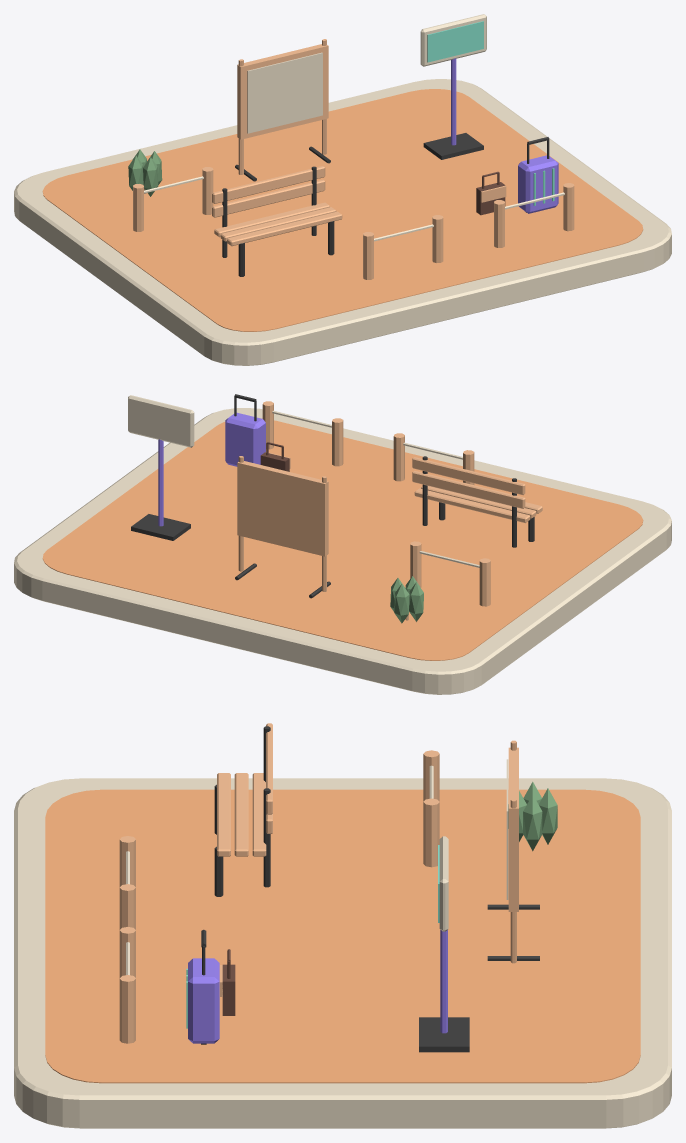
3 renders of one model, top to bottom at view 1: azimuth 30°, elevation 25°; view 2: azimuth 150°, elevation 25°; view 3: azimuth 270°, elevation 25°, orthographic. The views are drawn at different scales.
Visible parts, largest first — view 1: COM-02 Floor Surface, COM-01 Rounded Base Direct, Art surface, Frame, Shell, Inset, Back slat, Back slat.001, Seat slat, Sign panel, Foot.002, Bag (+8 smaller); view 2: COM-02 Floor Surface, COM-01 Rounded Base Direct, Frame, Sign panel, Shell, Back slat, Back slat.001, Seat slat.002, Foot.002, Seat slat.001, Boundary post.002, Boundary post.004 (+6 smaller); view 3: COM-02 Floor Surface, COM-01 Rounded Base Direct, Shell, Frame, Foot.002, Seat slat.001, Seat slat, Boundary post.003, Boundary post.005, Seat slat.002, Sign panel, Bag (+8 smaller).
Part boxes in pixels (x1=…): COM-02 Floor Surface: x1=42, y1=89, x2=643, y2=331; COM-01 Rounded Base Direct: x1=14, y1=79, x2=671, y2=365; Art surface: x1=247, y1=52, x2=322, y2=133; Frame: x1=237, y1=44, x2=328, y2=139; Shell: x1=518, y1=155, x2=558, y2=213; Inset: x1=427, y1=21, x2=483, y2=62; Back slat: x1=212, y1=179, x2=325, y2=217; Back slat.001: x1=212, y1=166, x2=325, y2=203; Seat slat: x1=227, y1=211, x2=342, y2=246; Sign panel: x1=420, y1=14, x2=486, y2=66; Foot.002: x1=423, y1=133, x2=483, y2=159; Bag: x1=476, y1=171, x2=506, y2=215; COM-02 Floor Surface: x1=42, y1=418, x2=643, y2=660; COM-01 Rounded Base Direct: x1=14, y1=408, x2=671, y2=694; Frame: x1=237, y1=461, x2=328, y2=556; Sign panel: x1=128, y1=395, x2=194, y2=447; Shell: x1=225, y1=412, x2=265, y2=466; Back slat: x1=412, y1=471, x2=525, y2=508; Back slat.001: x1=412, y1=457, x2=525, y2=494; Seat slat.002: x1=414, y1=488, x2=530, y2=522; Foot.002: x1=131, y1=514, x2=190, y2=540; Seat slat.001: x1=421, y1=486, x2=536, y2=518; Boundary post.002: x1=332, y1=418, x2=343, y2=466; Boundary post.004: x1=479, y1=558, x2=490, y2=606; COM-02 Floor Surface: x1=45, y1=789, x2=640, y2=1083; COM-01 Rounded Base Direct: x1=14, y1=778, x2=671, y2=1128; Shell: x1=188, y1=958, x2=219, y2=1043; Frame: x1=508, y1=747, x2=518, y2=911; Foot.002: x1=419, y1=1017, x2=469, y2=1052; Seat slat.001: x1=234, y1=773, x2=248, y2=856; Seat slat: x1=217, y1=773, x2=230, y2=856; Boundary post.003: x1=119, y1=975, x2=135, y2=1043; Boundary post.005: x1=423, y1=798, x2=439, y2=867; Seat slat.002: x1=252, y1=773, x2=266, y2=856; Sign panel: x1=439, y1=836, x2=448, y2=931; Bag: x1=220, y1=949, x2=235, y2=1015.
Size of the model in its own units: 6 by 1.87 by 5.2.
1 material, 1 textured.
